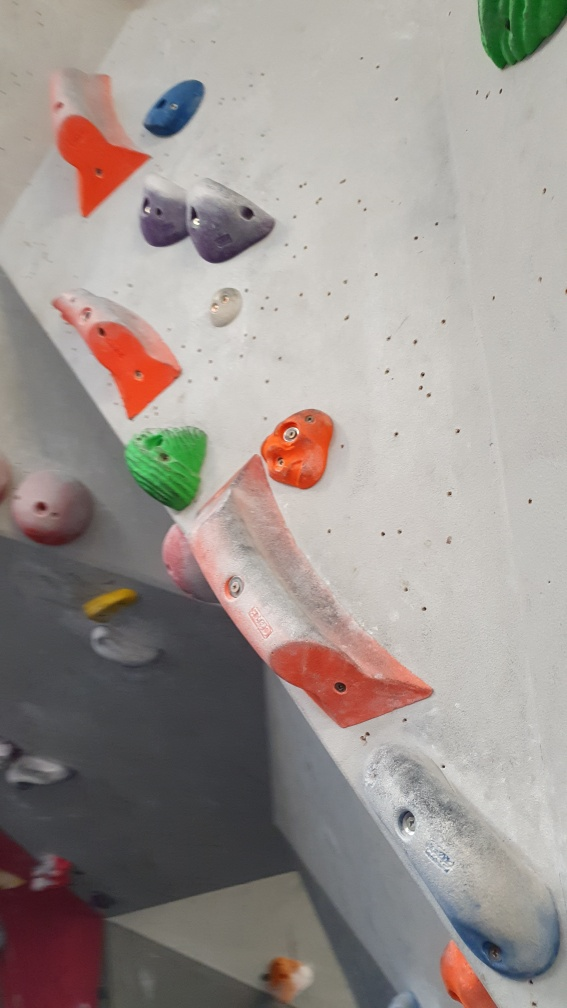Crimp: (143, 75, 210, 140)
Jug: (180, 174, 283, 260), (120, 422, 206, 512), (135, 166, 192, 247)
Pinch: (183, 456, 439, 734), (358, 732, 565, 988), (54, 288, 185, 421), (48, 66, 153, 216)
Sloper: (12, 460, 102, 549)
